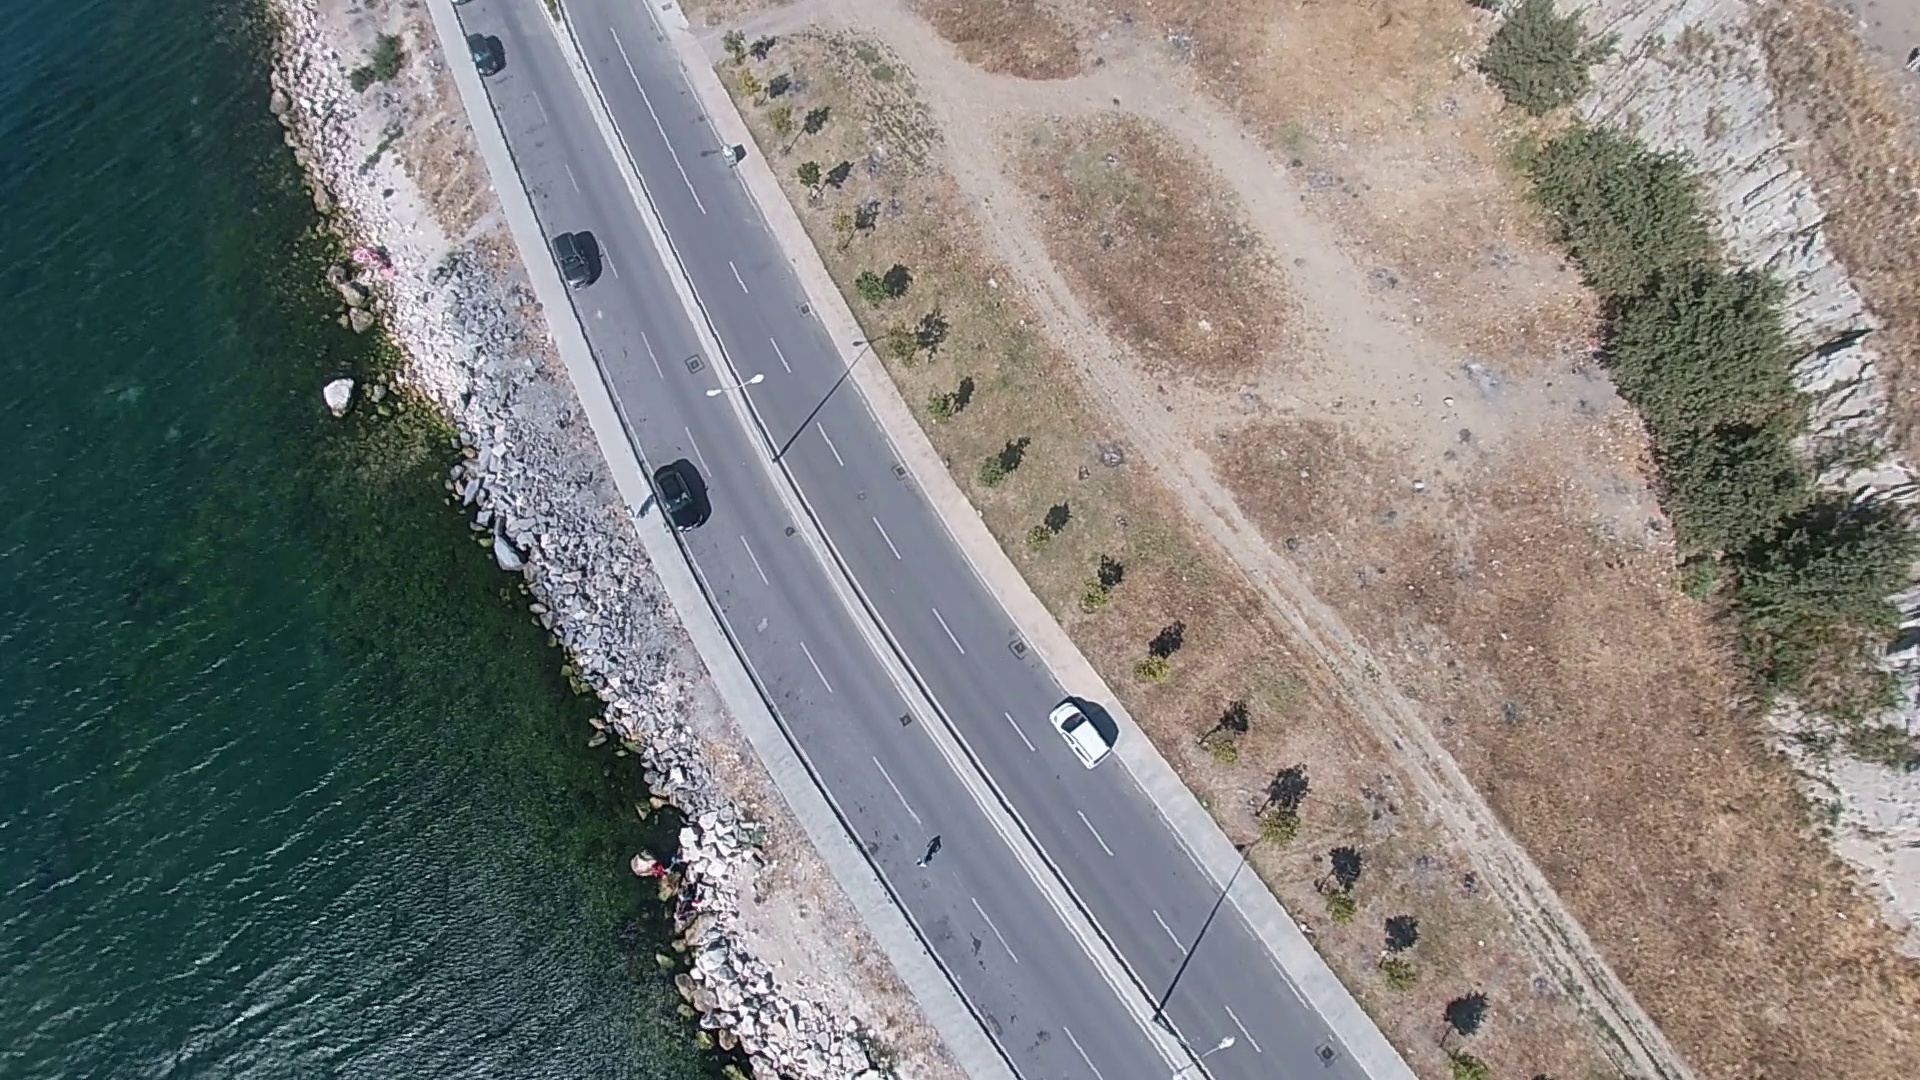arac: (1047, 696, 1115, 769), (655, 454, 711, 537), (552, 226, 597, 291), (463, 30, 500, 78)
insan: (914, 853, 932, 876)
